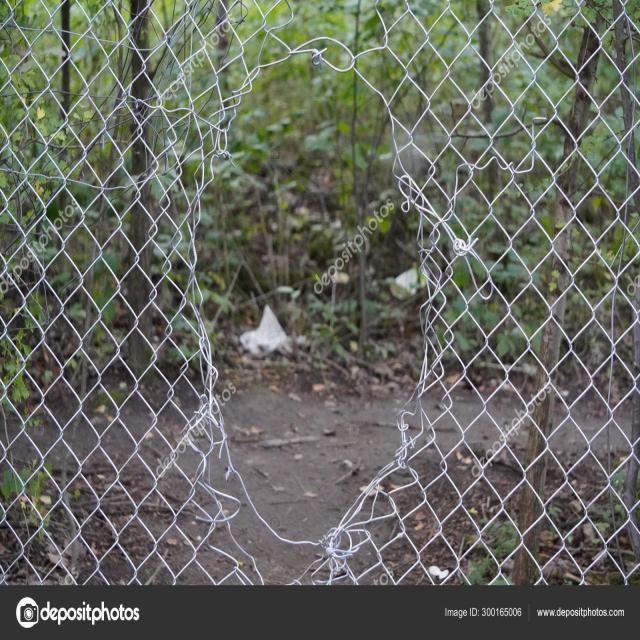fence line: (188, 44, 430, 547)
